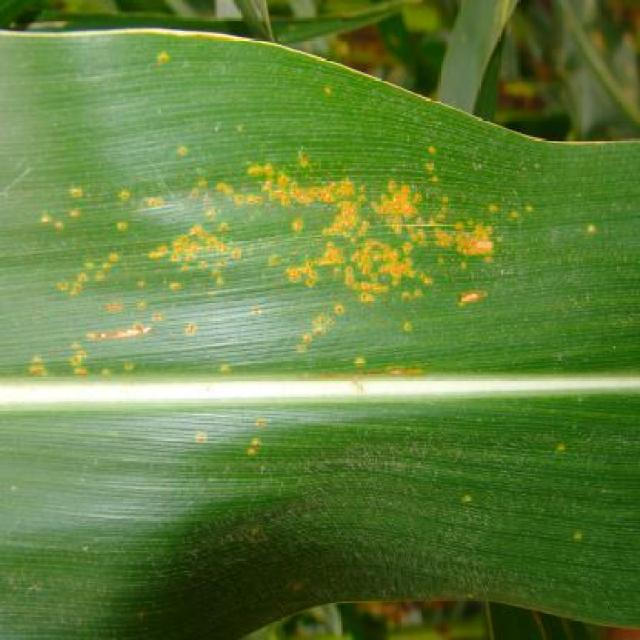Corn_Rust: (0, 12, 586, 457)
